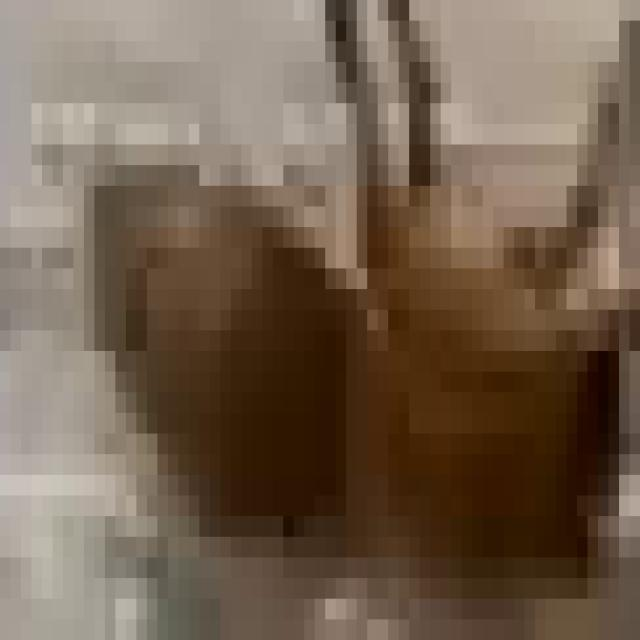honeybee: (77, 55, 640, 558)
